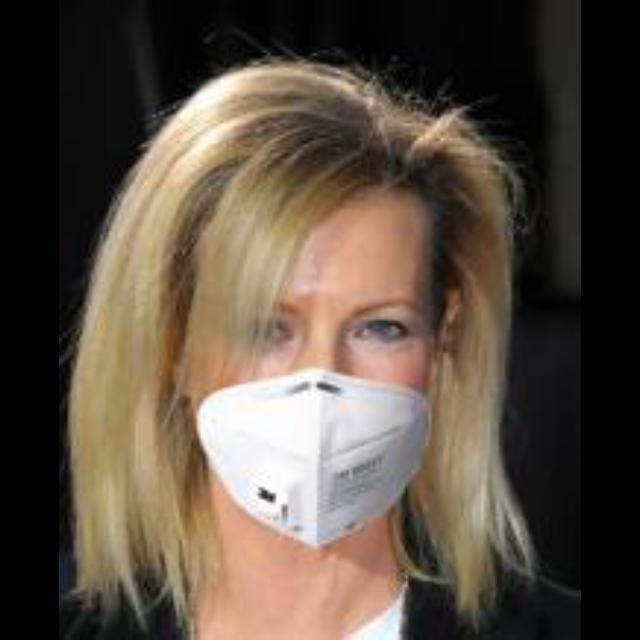suspicion: (117, 88, 533, 610)
